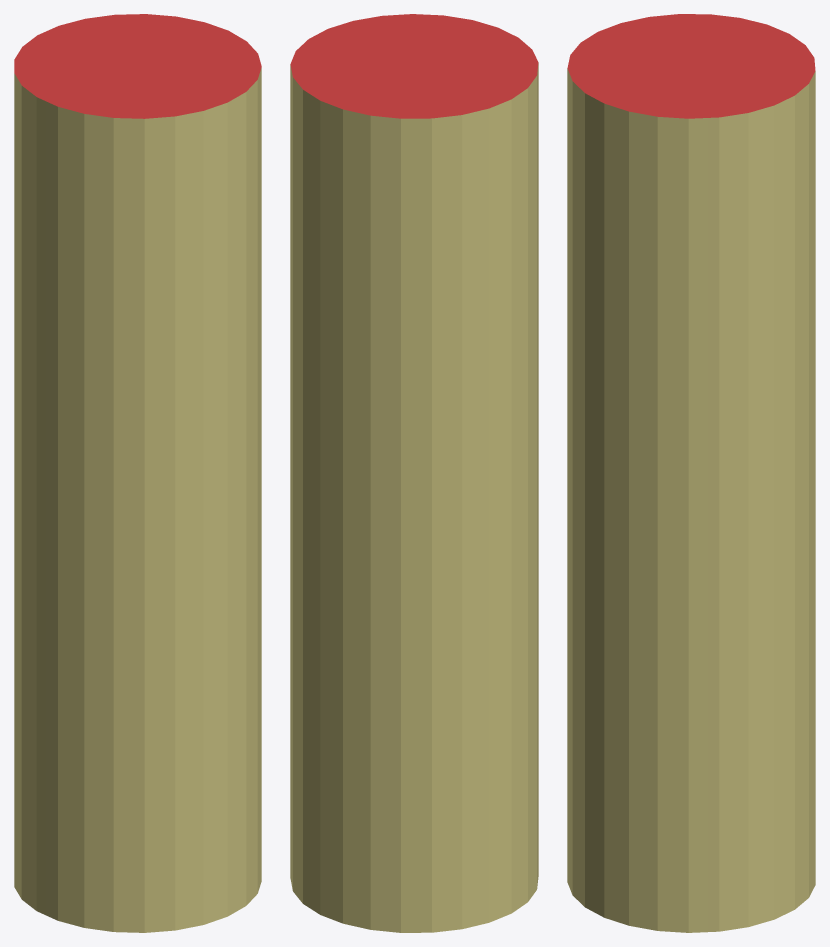
3 renders of one model, left to right at view 1: azimuth 30°, elevation 25°; view 2: azimuth 150°, elevation 25°; view 3: azimuth 270°, elevation 25°, orthographic.
Size of the model in its own units: 2.67 by 2.67 by 9.67.
